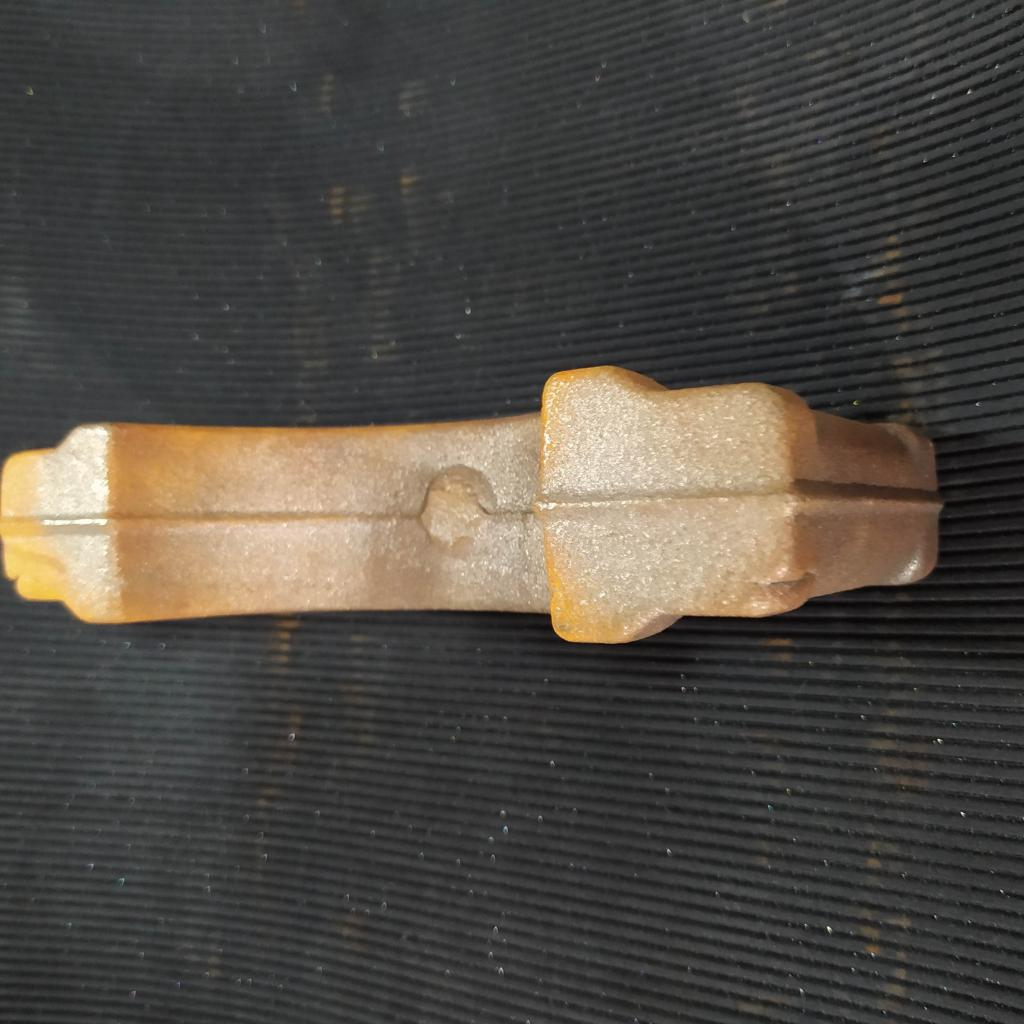rechupe: (749, 574, 814, 611), (7, 573, 24, 594)
